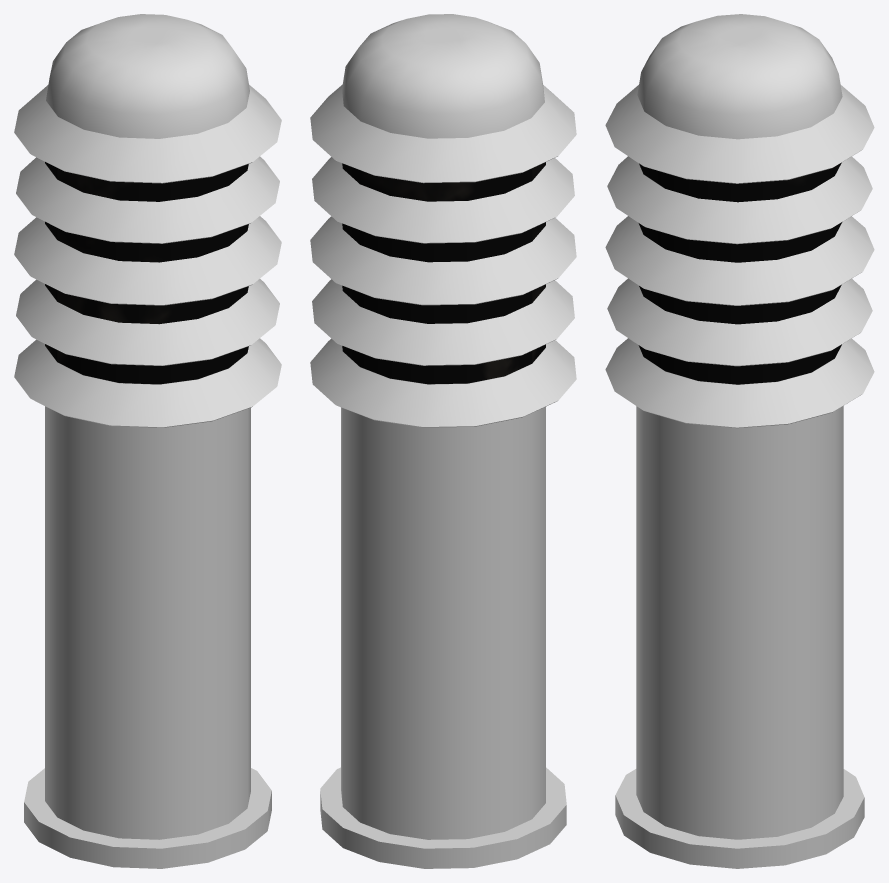
The model's file is KB3D_NSF_PropLightBollard_C.fbx.
3 renders of one model, left to right at view 1: azimuth 30°, elevation 25°; view 2: azimuth 150°, elevation 25°; view 3: azimuth 270°, elevation 25°, orthographic.
Parts seen in each view (by area): view 1: KB3D_NSF_PropLightBollard_C_Main; view 2: KB3D_NSF_PropLightBollard_C_Main; view 3: KB3D_NSF_PropLightBollard_C_Main.
Part boxes in pixels (left/top/right/bottom): KB3D_NSF_PropLightBollard_C_Main: left=14, top=14, right=281, bottom=868; KB3D_NSF_PropLightBollard_C_Main: left=310, top=14, right=576, bottom=868; KB3D_NSF_PropLightBollard_C_Main: left=605, top=14, right=874, bottom=868.
Bounding box in the file's own units: 23.81 × 76.15 × 23.81.
